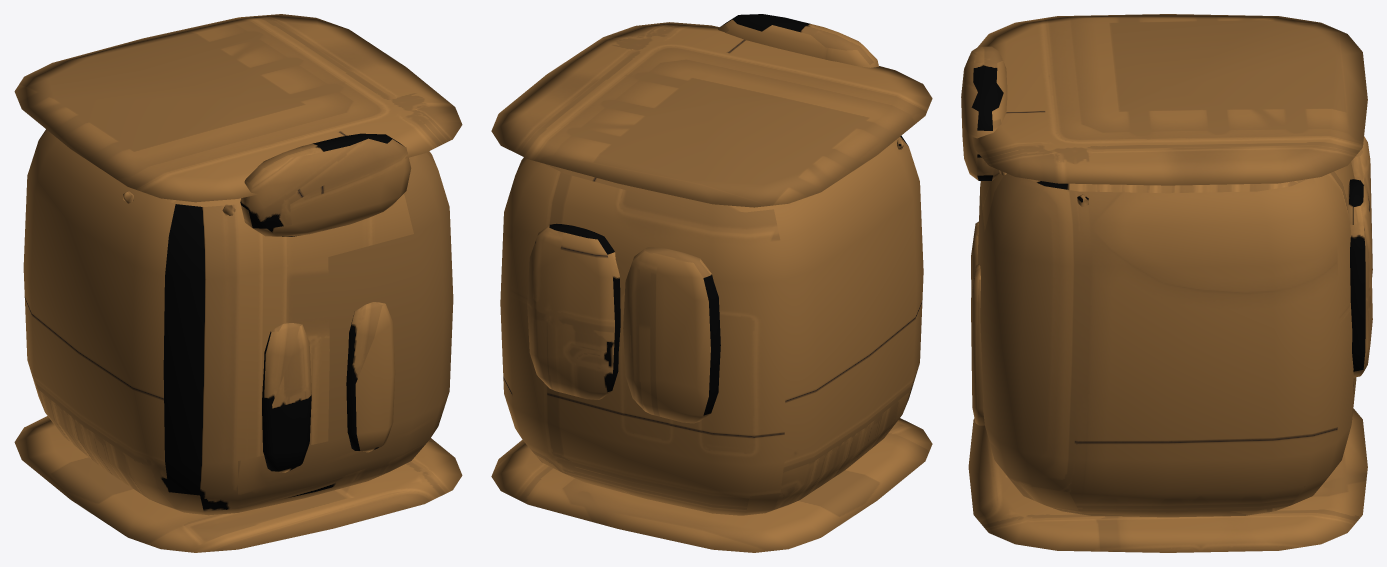
Rendered from Atalanta_GrebaIzq.fbx.
3 renders of one model, left to right at view 1: azimuth 30°, elevation 25°; view 2: azimuth 150°, elevation 25°; view 3: azimuth 270°, elevation 25°, orthographic. The views are drawn at different scales.
Visible parts, largest first — view 1: Atalanta_GrebaIzq; view 2: Atalanta_GrebaIzq; view 3: Atalanta_GrebaIzq.
Part boxes in pixels (<box>): Atalanta_GrebaIzq: <box>14,14,462,552</box>; Atalanta_GrebaIzq: <box>491,14,932,552</box>; Atalanta_GrebaIzq: <box>961,14,1372,552</box>.
Bounding box in the file's own units: 1.2 × 1.33 × 1.22.
